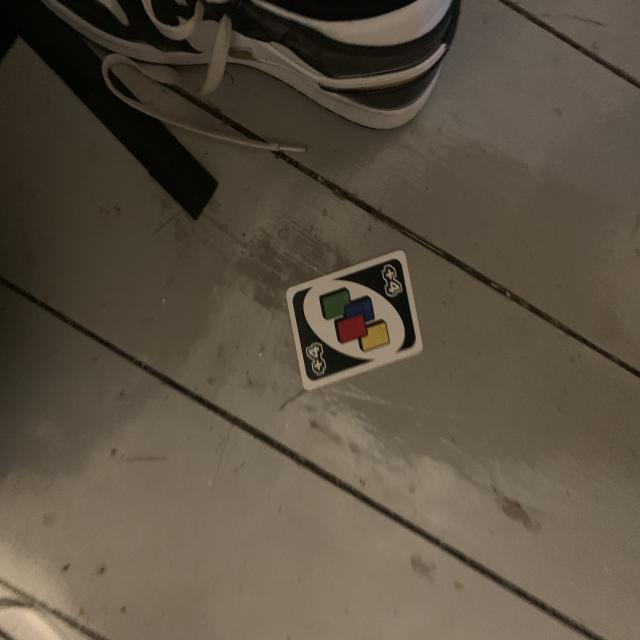lcolor-400: (376, 262, 405, 306)
